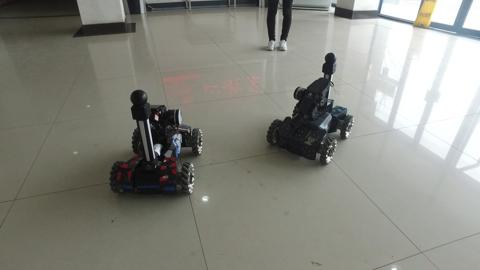chariot: (106, 86, 208, 199), (266, 51, 357, 169)
